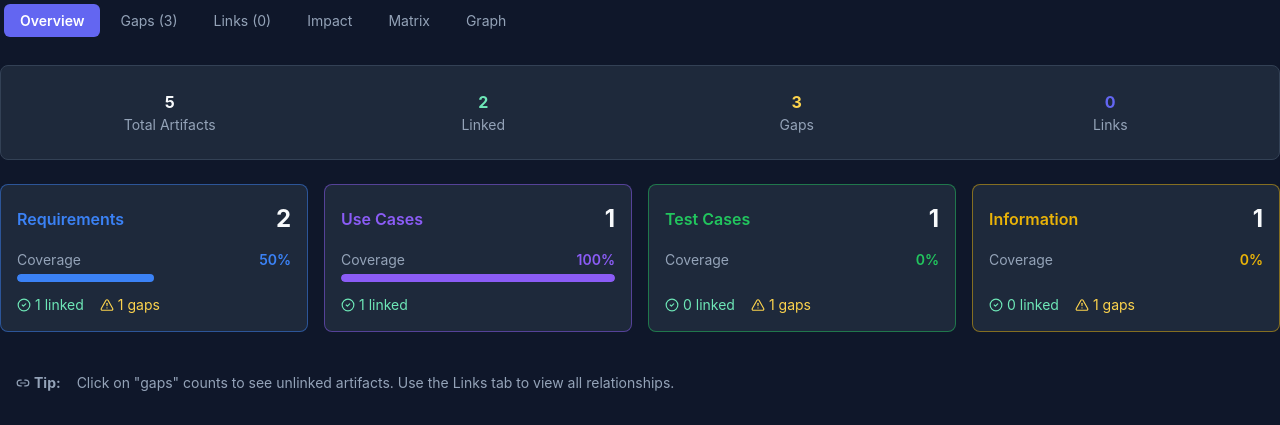
Test case: TraceabilityDashboard › Tab Navigation › switches to Impact tab when clicked
Click the button "Impact": [330, 20] box [291, 4, 368, 37]
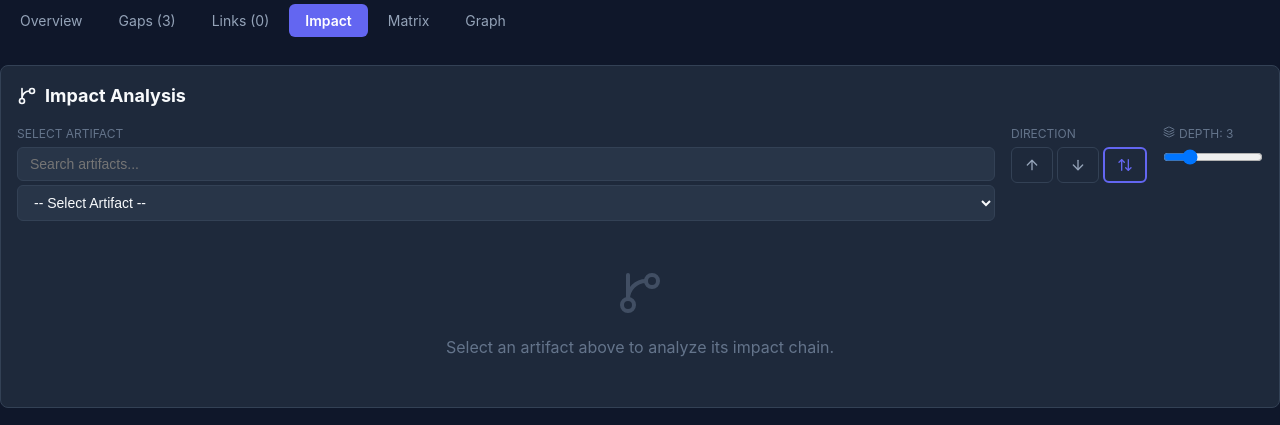
Check: the heading "Impact Analysis" is shown, box [17, 85, 186, 106]
